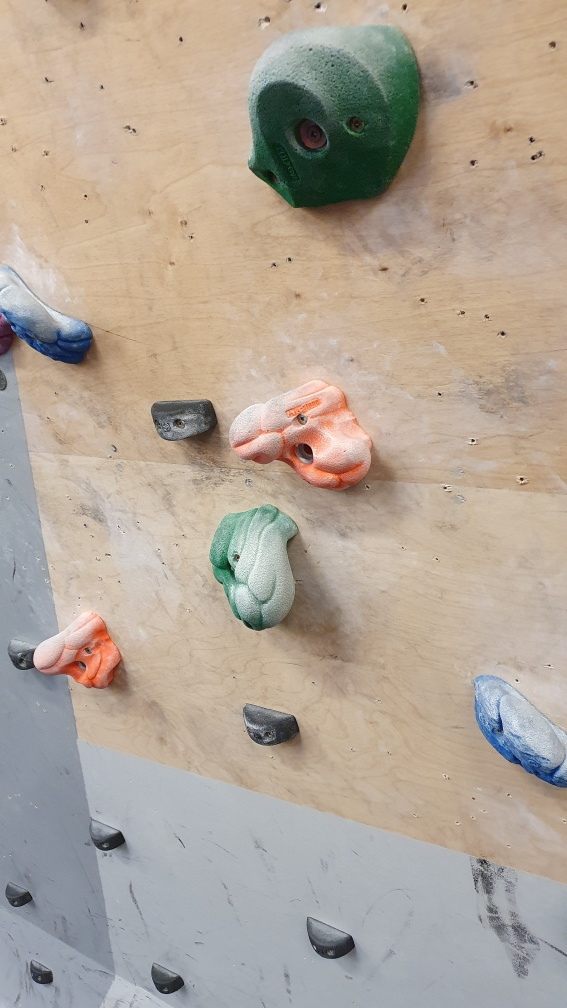Jug: (240, 16, 422, 217), (225, 380, 377, 491), (463, 667, 567, 789), (211, 504, 304, 637), (1, 259, 99, 369), (31, 611, 124, 694)
Pinch: (148, 395, 217, 445), (238, 700, 305, 748), (301, 917, 354, 968), (88, 818, 126, 853), (8, 638, 42, 677), (148, 961, 185, 993), (4, 882, 37, 911), (28, 960, 55, 987)
